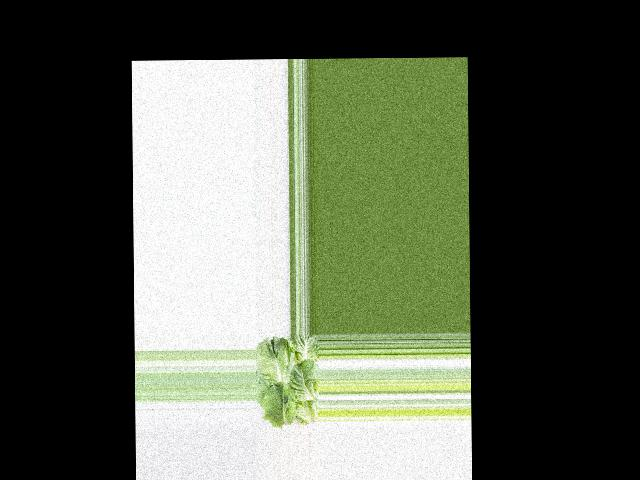lettuce: (257, 336, 320, 425)
